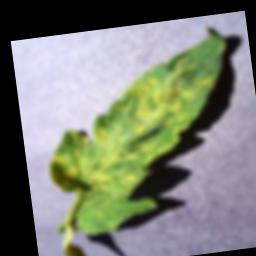Leaf_Mold: (28, 30, 249, 240)
